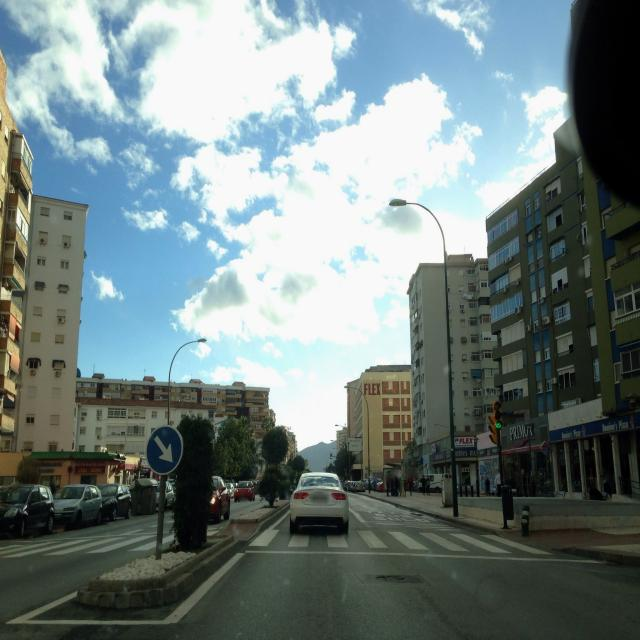car: (288, 472, 350, 534), (0, 482, 56, 540), (51, 484, 104, 528), (95, 482, 133, 521), (128, 480, 166, 514), (206, 475, 231, 523), (157, 481, 176, 511), (233, 481, 256, 502), (224, 482, 236, 498), (353, 479, 365, 493), (344, 479, 354, 492)
